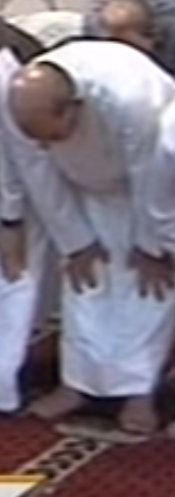ruku: (1, 26, 175, 409)
